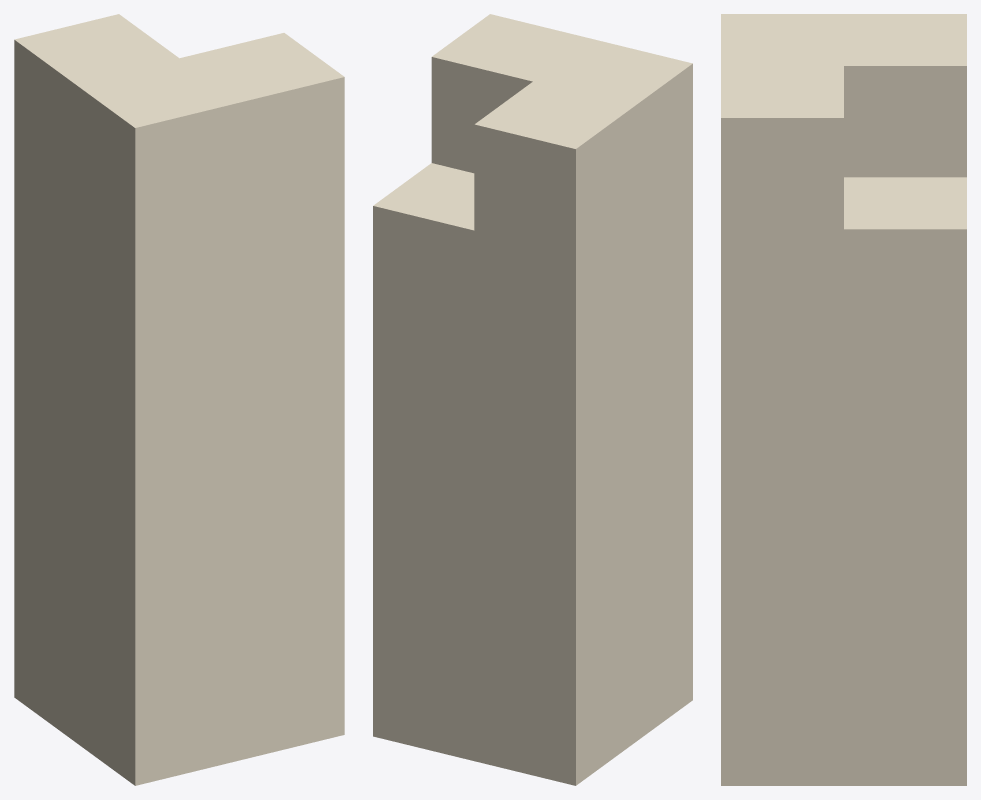
File: arctic_fox__leg_fr.obj
The picture shows the model from 3 angles, left to right: view 1: azimuth 30°, elevation 25°; view 2: azimuth 150°, elevation 25°; view 3: azimuth 270°, elevation 25°; orthographic projection. The views are drawn at different scales.
Visible parts, largest first — view 1: arctic_fox__leg_fr; view 2: arctic_fox__leg_fr; view 3: arctic_fox__leg_fr.
Part boxes in pixels (x1,y1,x2,y2): arctic_fox__leg_fr: [14, 14, 344, 785]; arctic_fox__leg_fr: [373, 14, 692, 785]; arctic_fox__leg_fr: [721, 14, 966, 785].
Size of the model in its own units: 0.2 by 0.6 by 0.2.
1 material, 1 textured.
